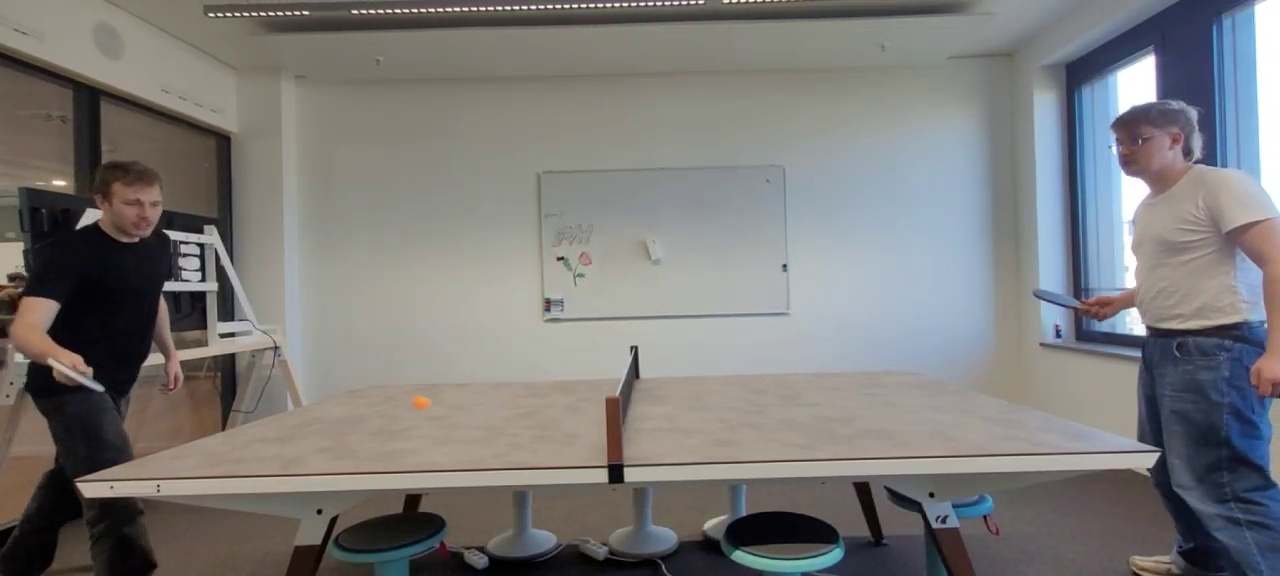plate: (76, 369, 1161, 480)
racket: (47, 357, 105, 392), (1033, 290, 1089, 311)
ttball: (414, 396, 431, 409)
